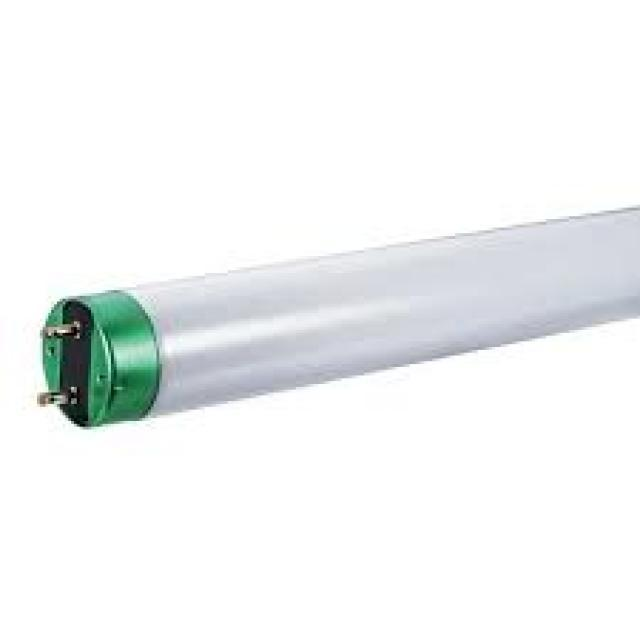tubelight_off: (36, 199, 640, 440)
